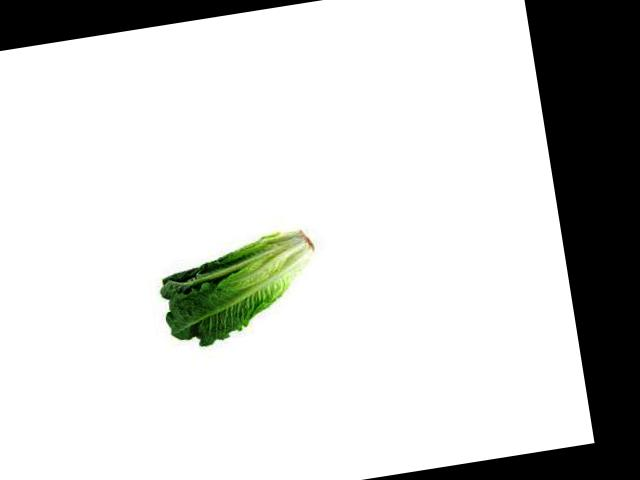lettuce: (124, 246, 296, 401)
